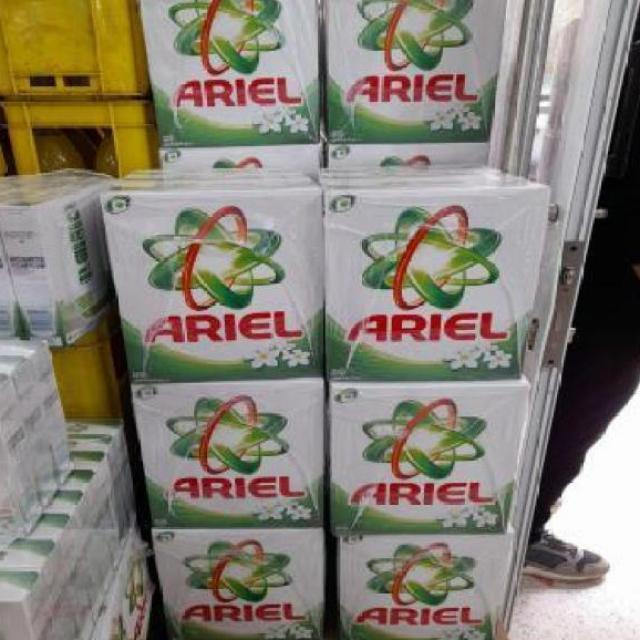Detergent: (100, 188, 319, 379), (327, 188, 519, 383), (329, 380, 522, 530), (127, 385, 320, 528), (132, 0, 319, 146), (322, 0, 493, 141), (149, 528, 322, 640), (337, 535, 490, 640)
